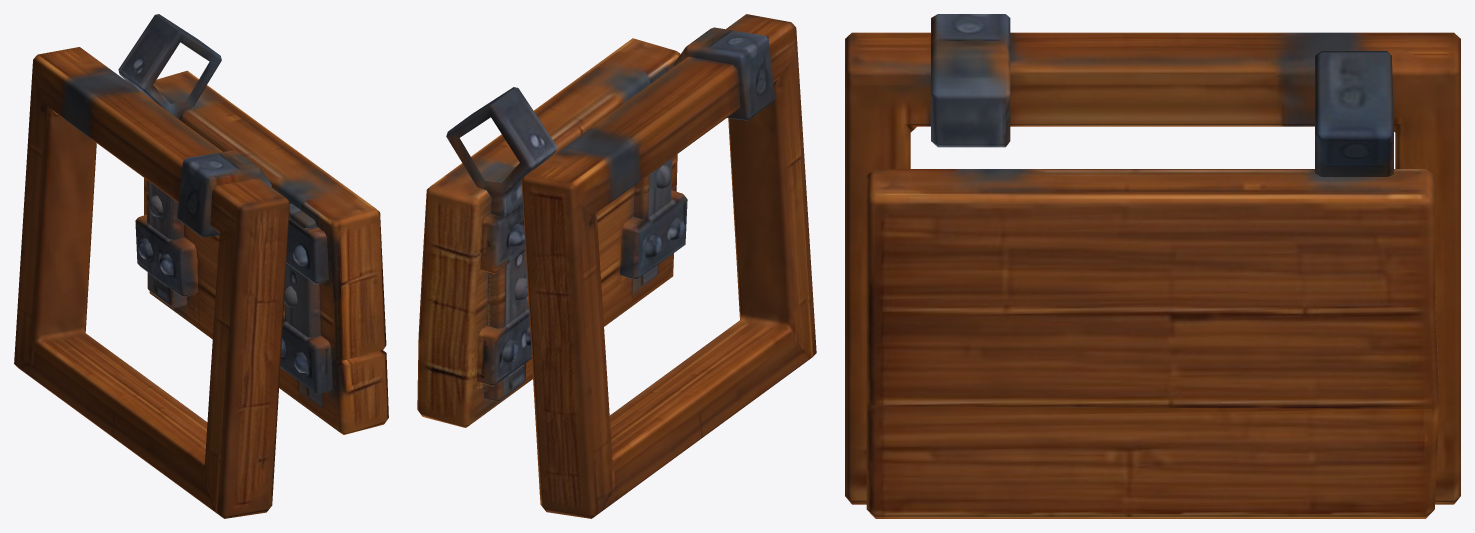
Rendered from gunport_lid.glb.
The picture shows the model from 3 angles, left to right: view 1: azimuth 30°, elevation 25°; view 2: azimuth 150°, elevation 25°; view 3: azimuth 270°, elevation 25°; orthographic projection. The views are drawn at different scales.
Visible parts, largest first — view 1: frame, lid; view 2: frame, lid; view 3: lid, frame.
Boxes of the visible parts, x1,y1,x2,y2 form: frame: (14, 47, 289, 518); lid: (118, 14, 388, 434); frame: (521, 14, 816, 518); lid: (417, 38, 687, 427); lid: (866, 51, 1439, 518); frame: (845, 14, 1460, 504).
Size of the model in its own units: 0.6159 by 1.15 by 1.27.
Materials: 1 (1 with a texture image).
